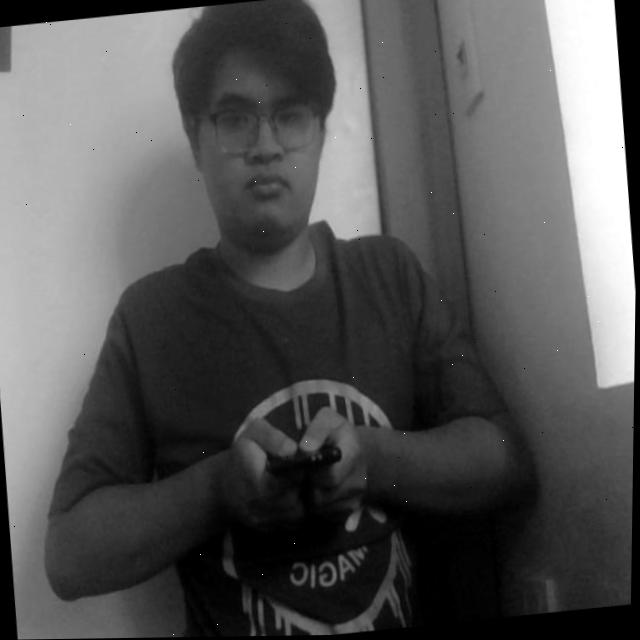phone: (249, 412, 351, 511)
